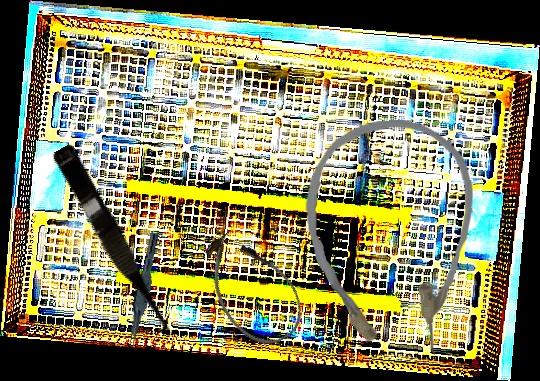Cannula: (302, 117, 480, 360), (188, 218, 316, 358)
Micro Scissor: (47, 142, 181, 346)
Tissue Forceps: (125, 230, 160, 350)
